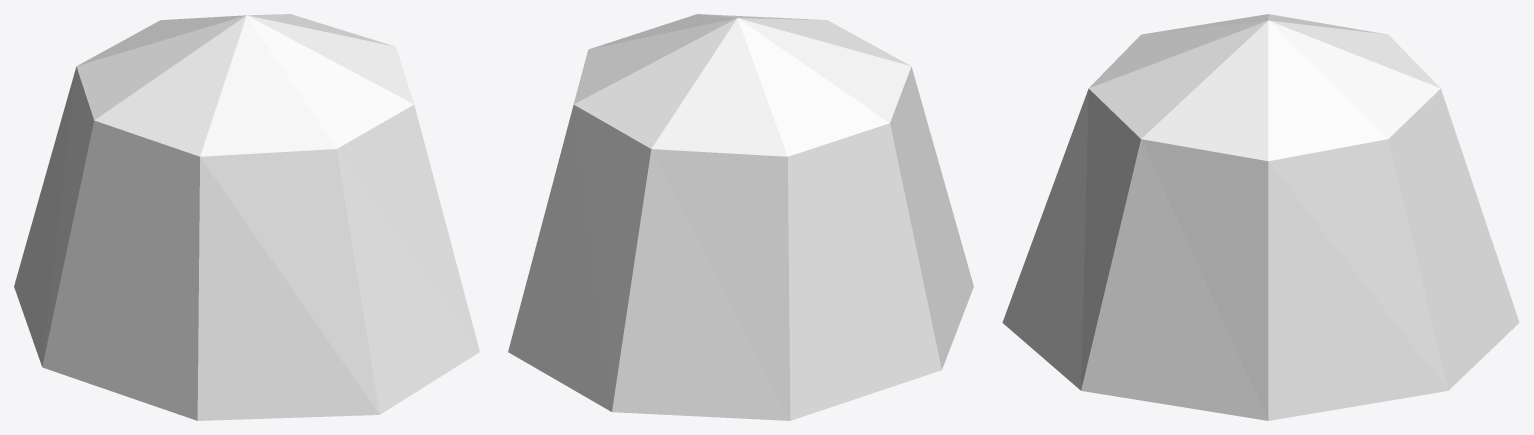
3 views of the same model, side by side, from view 1: azimuth 30°, elevation 25°; view 2: azimuth 150°, elevation 25°; view 3: azimuth 270°, elevation 25° (orthographic).
Bounding box in the file's own units: 125 × 89 × 138.
1 material, 1 textured.
